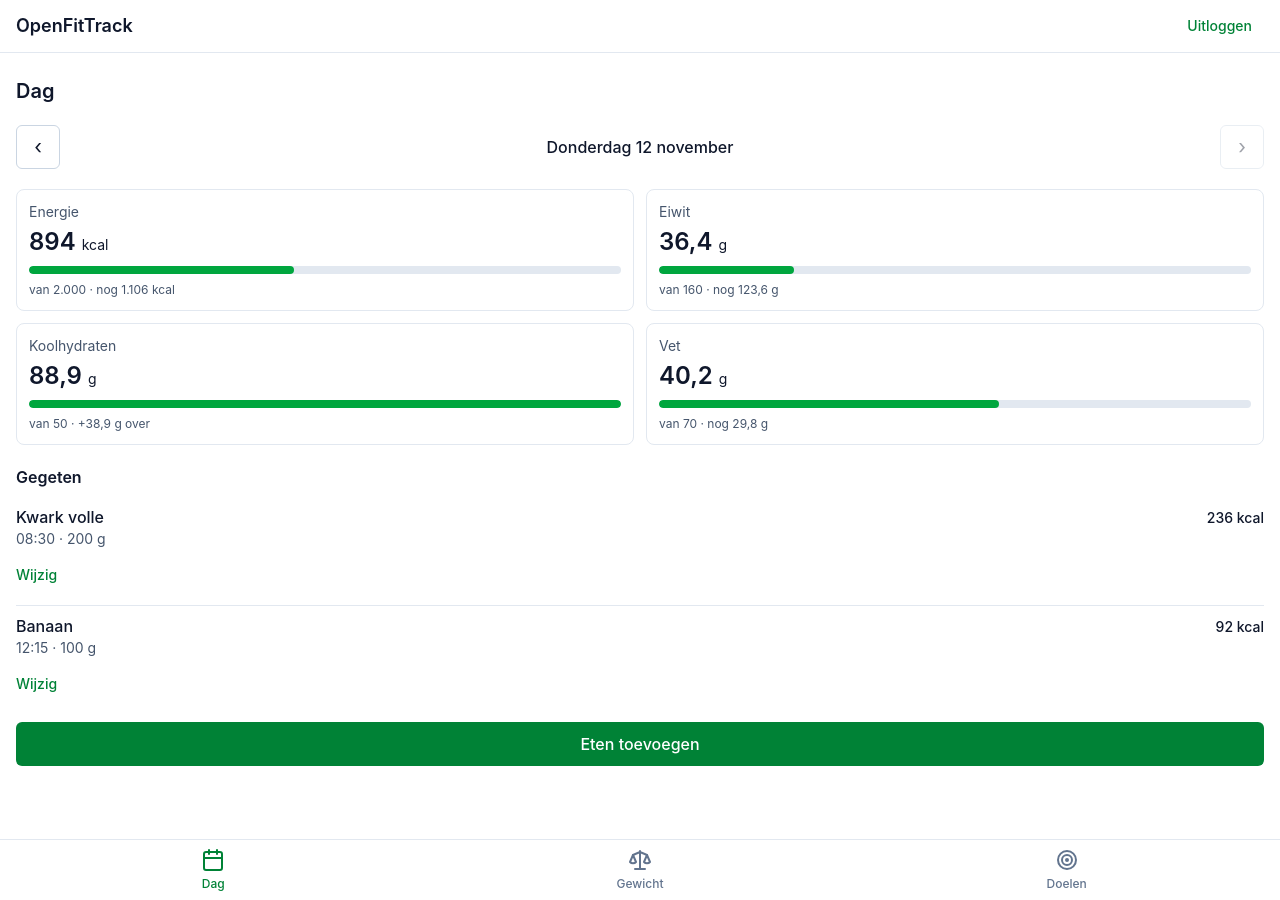
Test case: deleting a logged line › shows an error and keeps the line when deleting fails
This screenshot has width=1280, height=900.
Click the button with aria-label "Wijzig Kwark volle". click: (37, 575)
box: 16,553 -> 57,597
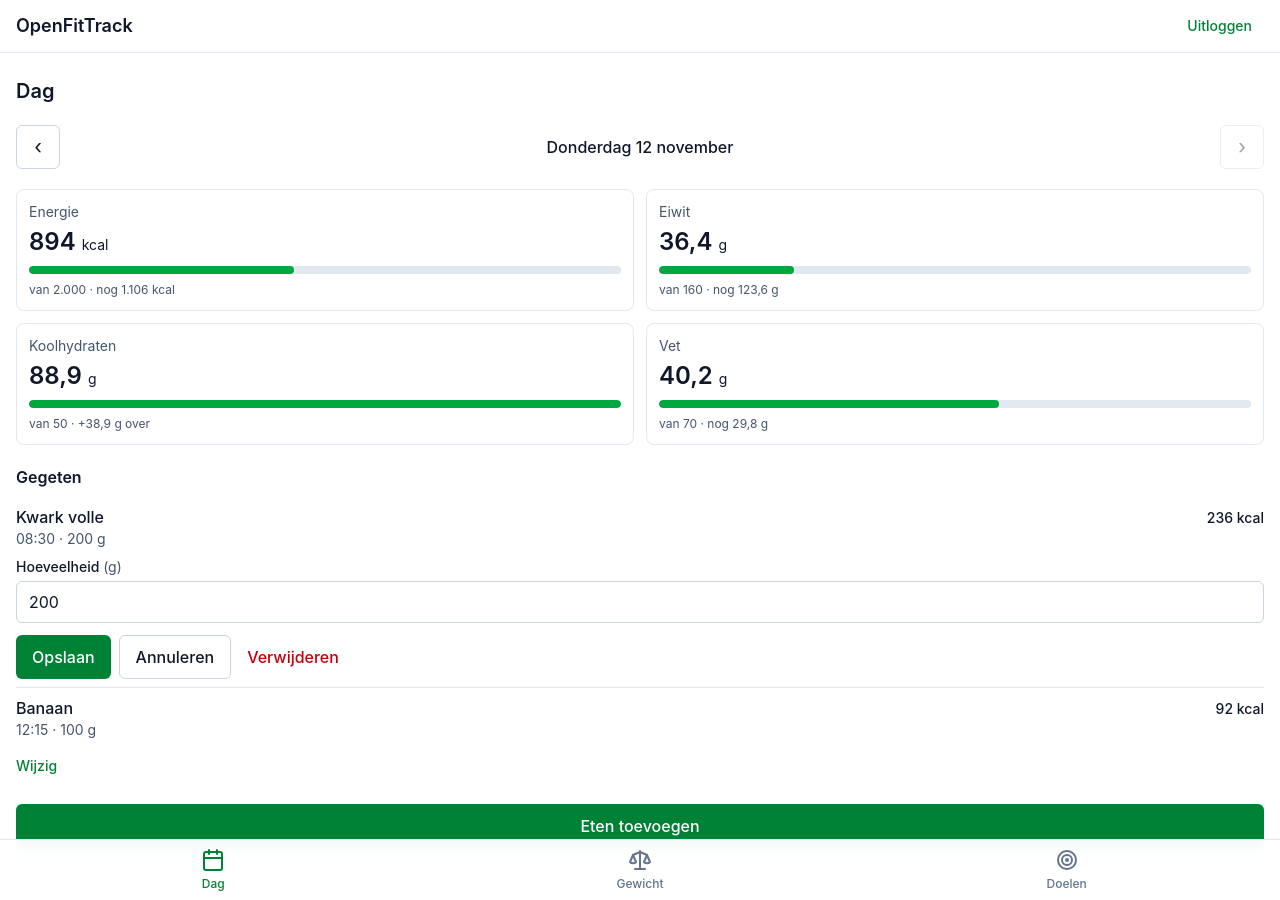
Click the button "Verwijderen". click: (293, 657)
box: 239,635 -> 347,679
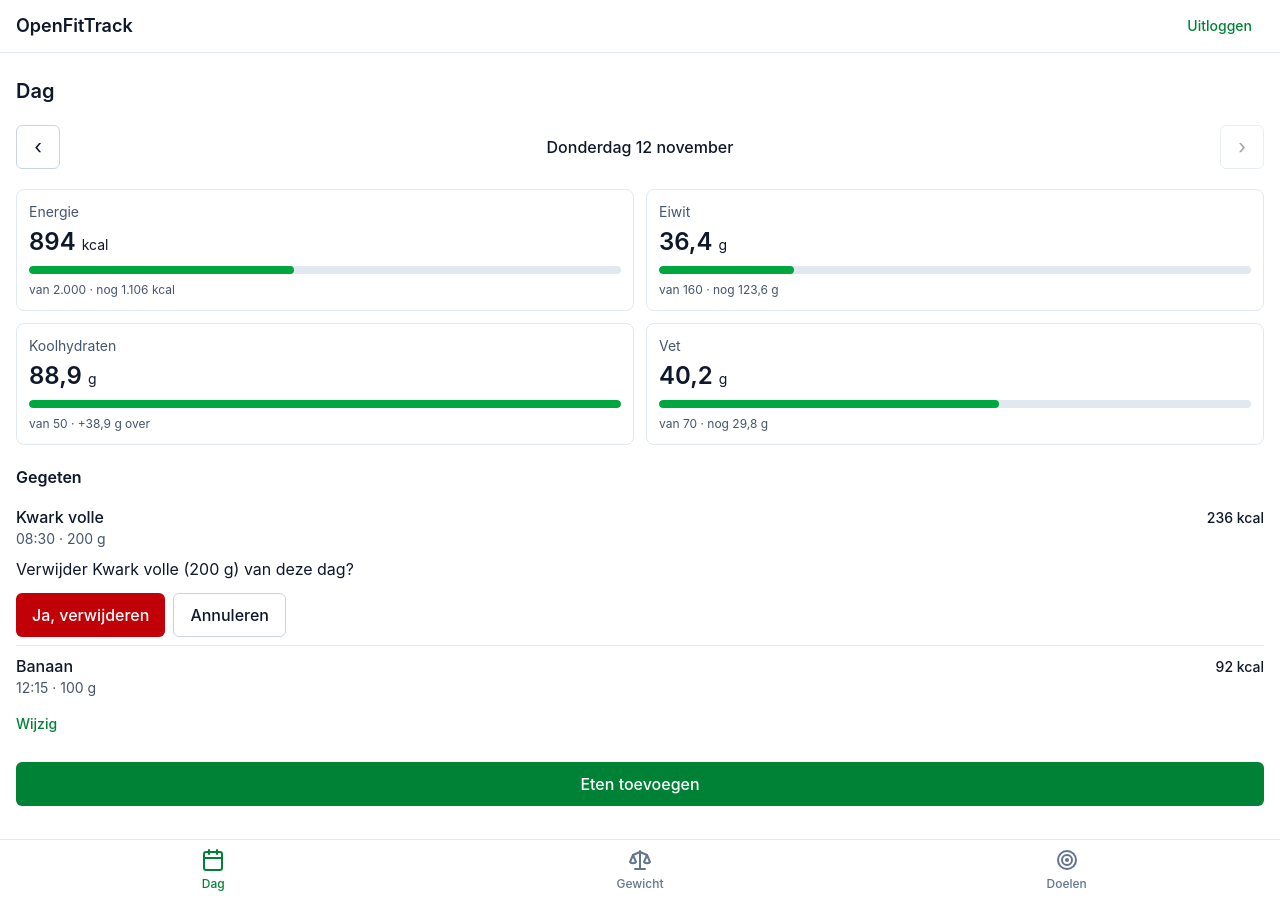
Click the button "Ja, verwijderen". click: (91, 615)
box: 16,593 -> 165,637
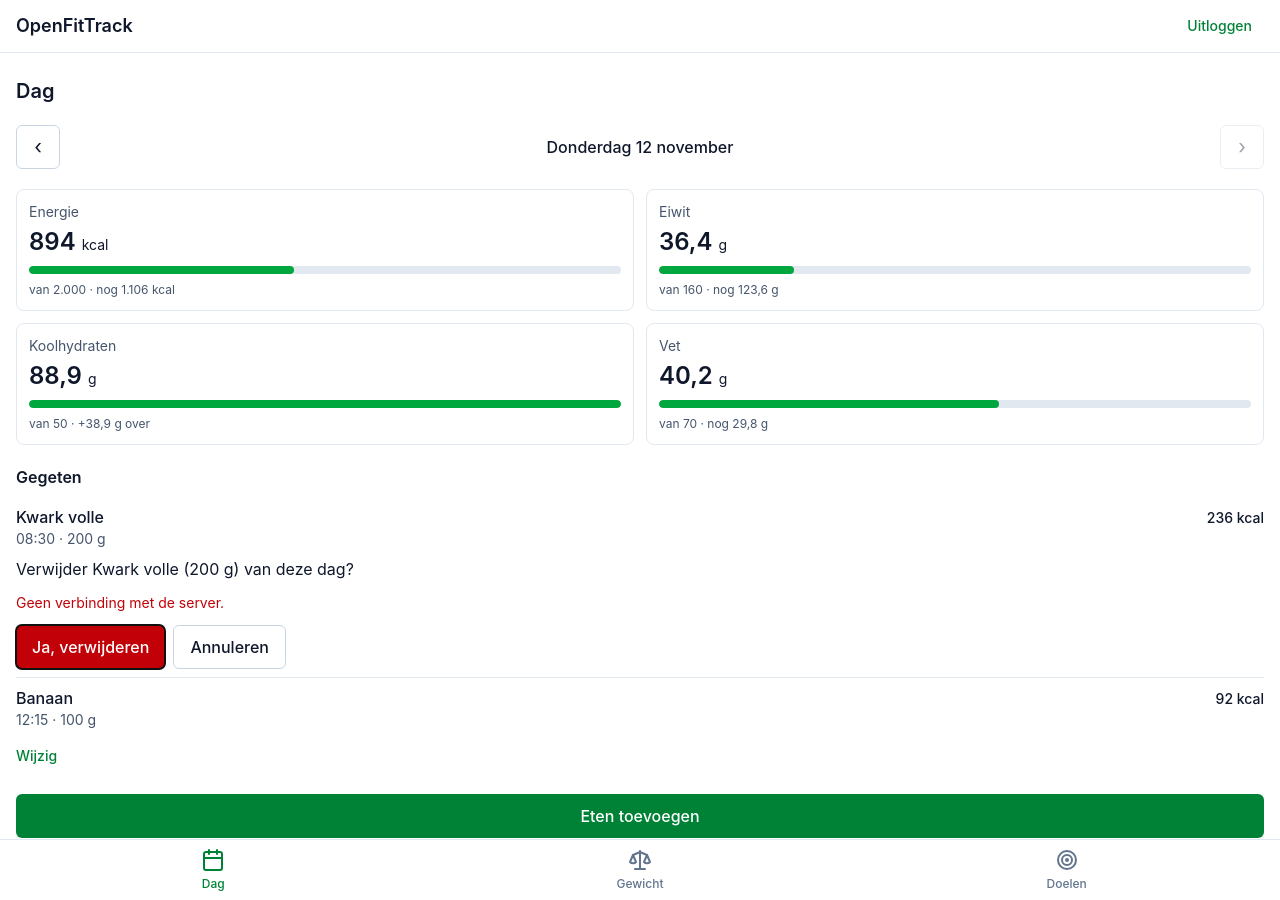
expect the text "Kwark volle" is shown: met, box 16,505 -> 106,529
expect the message reads "Geen verbinding met de server.": met, box 16,594 -> 224,611
